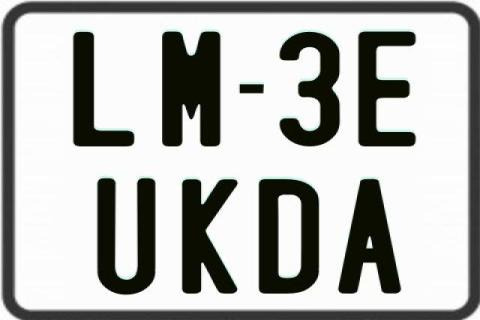0: (277, 32, 338, 147)
A: (337, 177, 404, 292)
D: (258, 178, 318, 294)
E: (356, 29, 416, 148)
K: (182, 177, 240, 293)
L: (72, 30, 137, 144)
M: (161, 30, 224, 146)
U: (96, 177, 157, 295)
